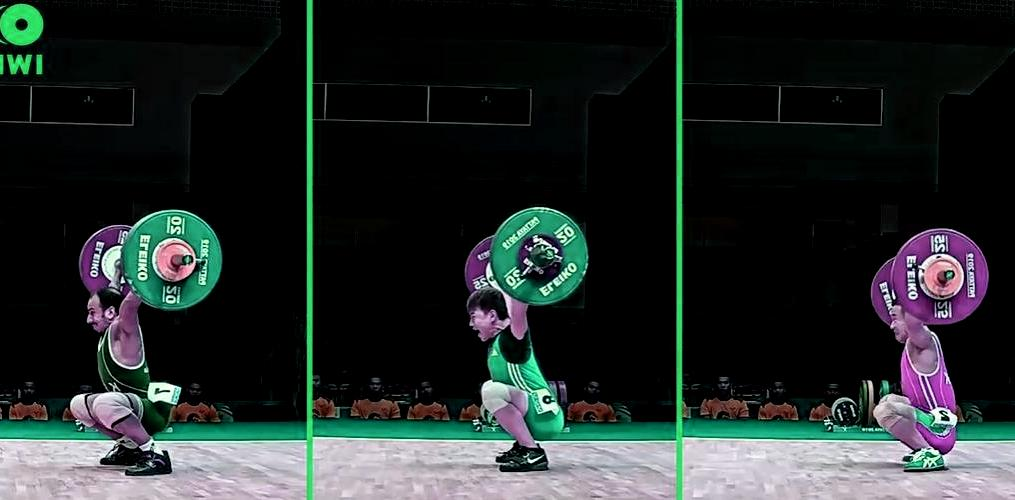Barbell: (173, 252, 195, 270), (939, 266, 956, 284), (540, 246, 556, 261)
